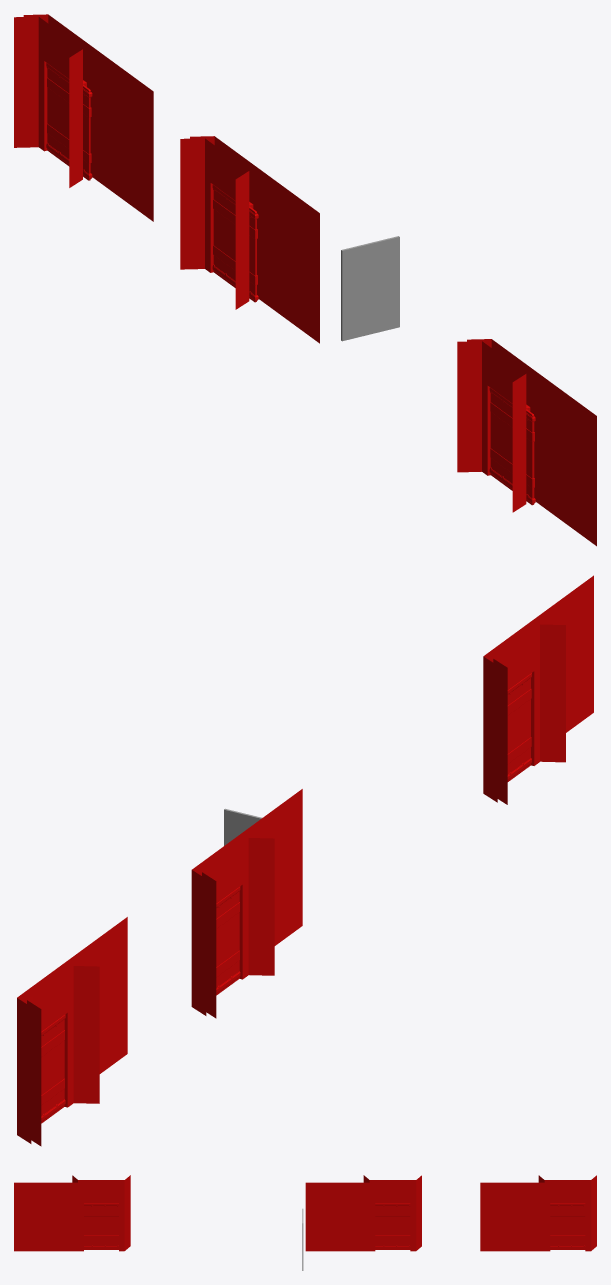
Rendered from DoorGrp.fbx.
3 views of the same model, one above another, from view 1: azimuth 30°, elevation 25°; view 2: azimuth 150°, elevation 25°; view 3: azimuth 270°, elevation 25° (orthographic). The views are drawn at different scales.
Parts seen in each view (by area): view 1: Entrance_1, Entrance_2, Entrance_3, Door_4, Door_1, Door_2, Door_3; view 2: Entrance_2, Entrance_3, Entrance_1, Door_1, Door_2, Door_3, Door_4; view 3: Entrance_3, Entrance_2, Entrance_1, Door_2, Door_3, Door_1.
Part boxes in pixels (x1=…): Entrance_1: x1=457, y1=339, x2=596, y2=546; Entrance_2: x1=180, y1=136, x2=319, y2=343; Entrance_3: x1=14, y1=14, x2=153, y2=221; Door_4: x1=341, y1=236, x2=399, y2=341; Door_1: x1=489, y1=387, x2=535, y2=505; Door_2: x1=212, y1=184, x2=258, y2=302; Door_3: x1=46, y1=63, x2=92, y2=180; Entrance_2: x1=191, y1=789, x2=302, y2=1018; Entrance_3: x1=17, y1=917, x2=127, y2=1146; Entrance_1: x1=483, y1=575, x2=593, y2=804; Door_1: x1=507, y1=673, x2=531, y2=781; Door_2: x1=216, y1=886, x2=240, y2=995; Door_3: x1=41, y1=1014, x2=65, y2=1123; Door_4: x1=224, y1=808, x2=262, y2=845; Entrance_3: x1=480, y1=1175, x2=596, y2=1251; Entrance_2: x1=305, y1=1175, x2=421, y2=1251; Entrance_1: x1=14, y1=1175, x2=130, y2=1251; Door_2: x1=375, y1=1203, x2=410, y2=1249; Door_3: x1=550, y1=1203, x2=585, y2=1249; Door_1: x1=84, y1=1203, x2=118, y2=1249.
Bounding box in the file's own units: 2.75 × 3.25 × 25.
